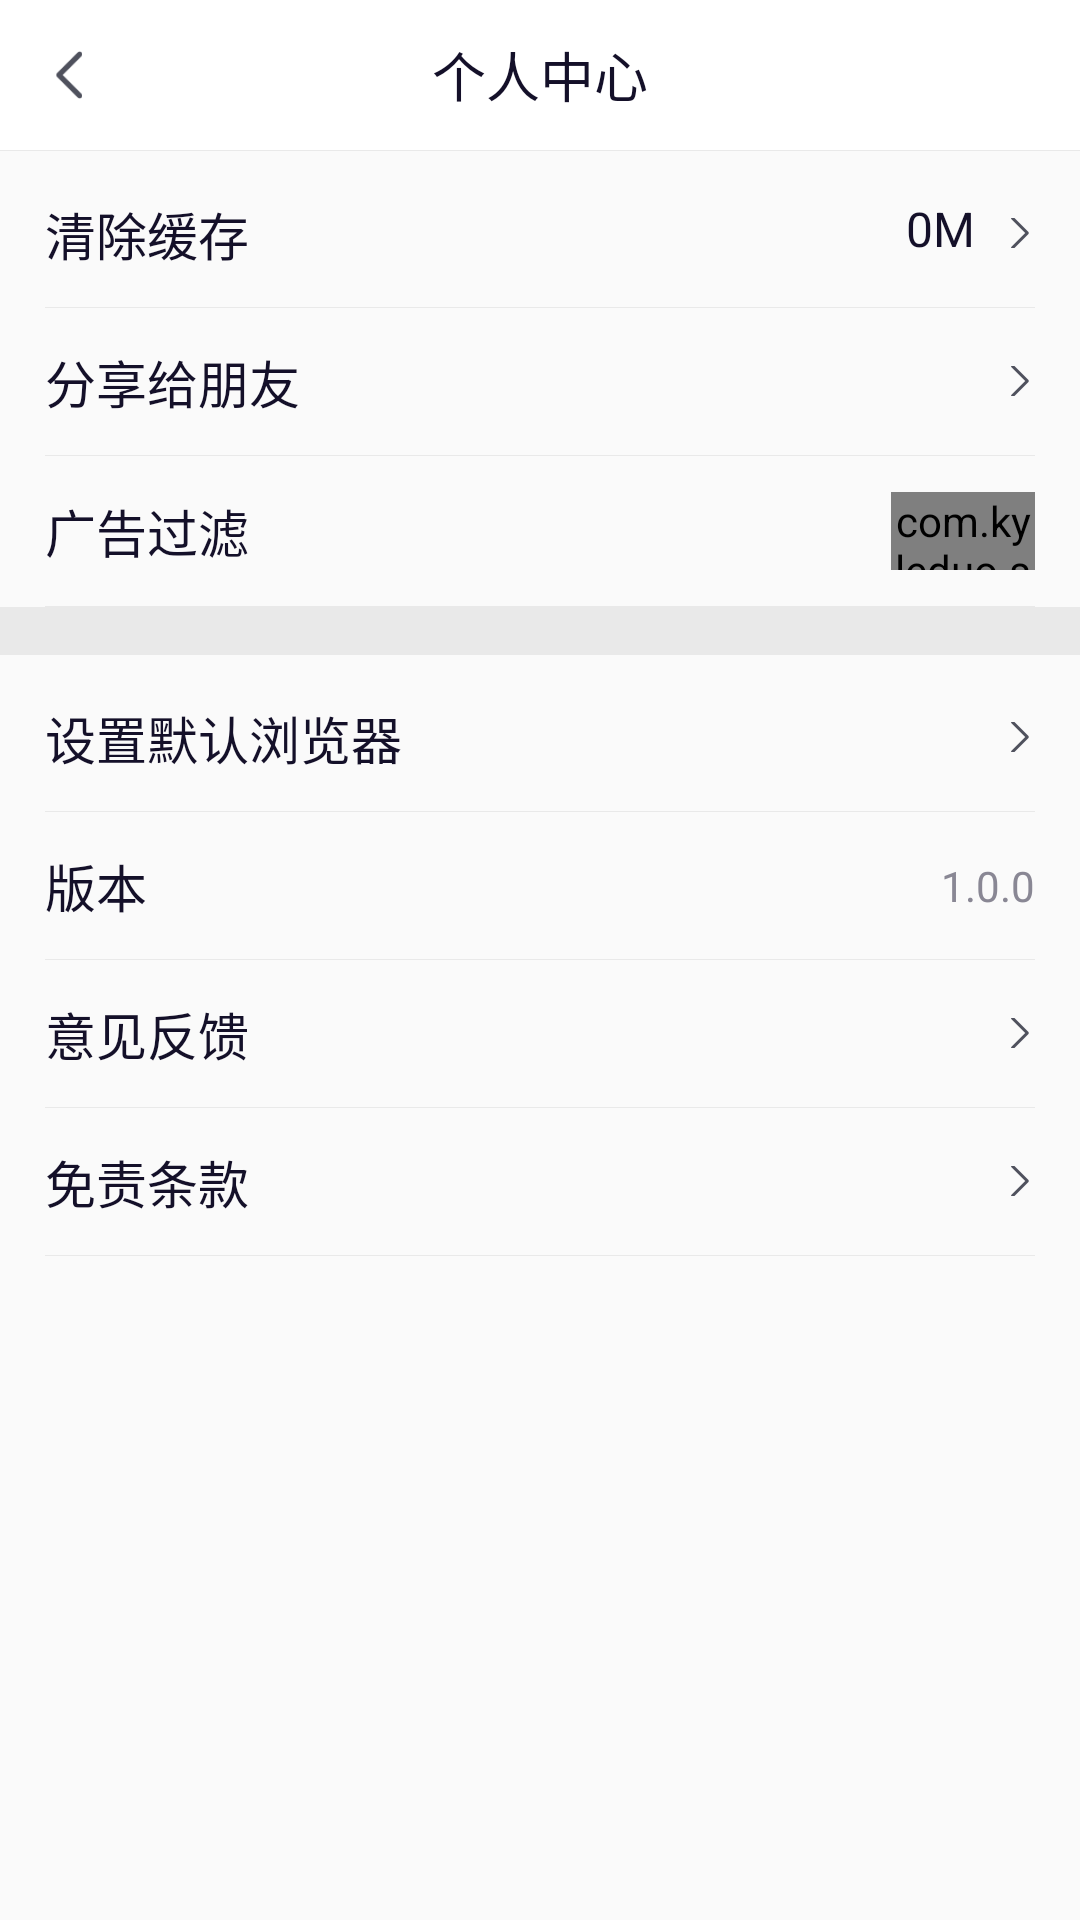

Icons on this 1080x1920 Android screen, each with the point to tap as [x,y]:
back: [69,75]
